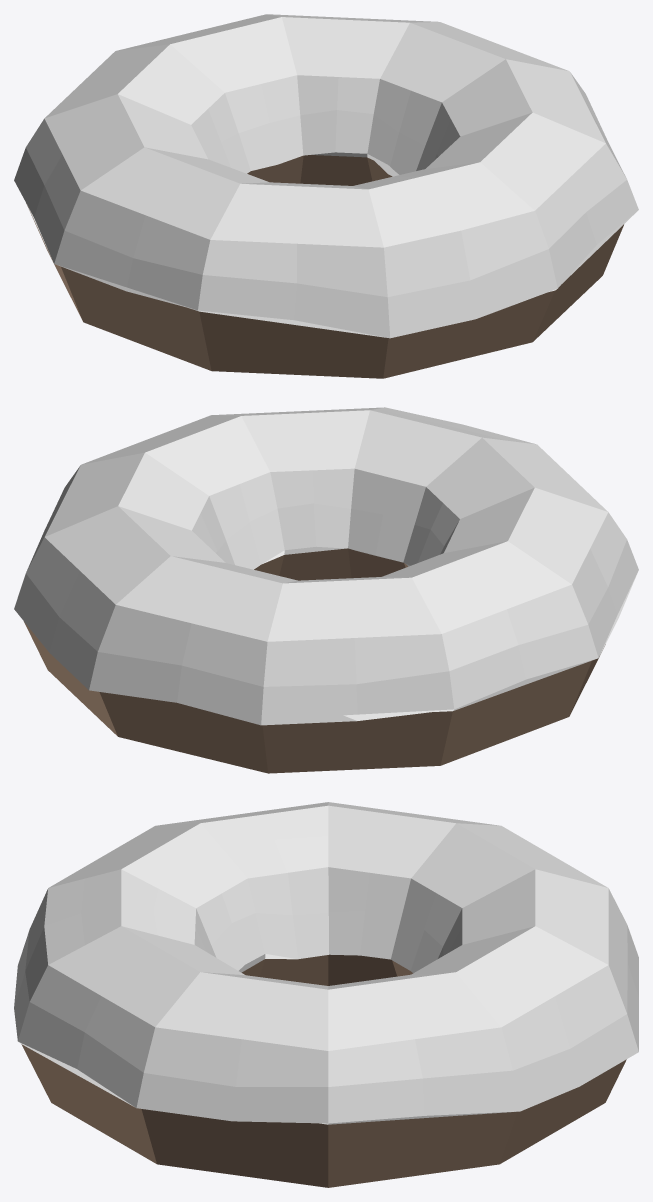
Rendered from 3DMODELS_Props_Food_PlainDonut.fbx.
The picture shows the model from 3 angles, top to bottom: view 1: azimuth 30°, elevation 25°; view 2: azimuth 150°, elevation 25°; view 3: azimuth 270°, elevation 25°; orthographic projection. The views are drawn at different scales.
Parts seen in each view (by area): view 1: pTorus1; view 2: pTorus1; view 3: pTorus1.
Boxes of the visible parts, x1,y1,x2,y2 form: pTorus1: [14, 14, 638, 378]; pTorus1: [14, 407, 638, 773]; pTorus1: [14, 802, 638, 1187].
Bounding box in the file's own units: 3.03 × 0.8563 × 2.9.
